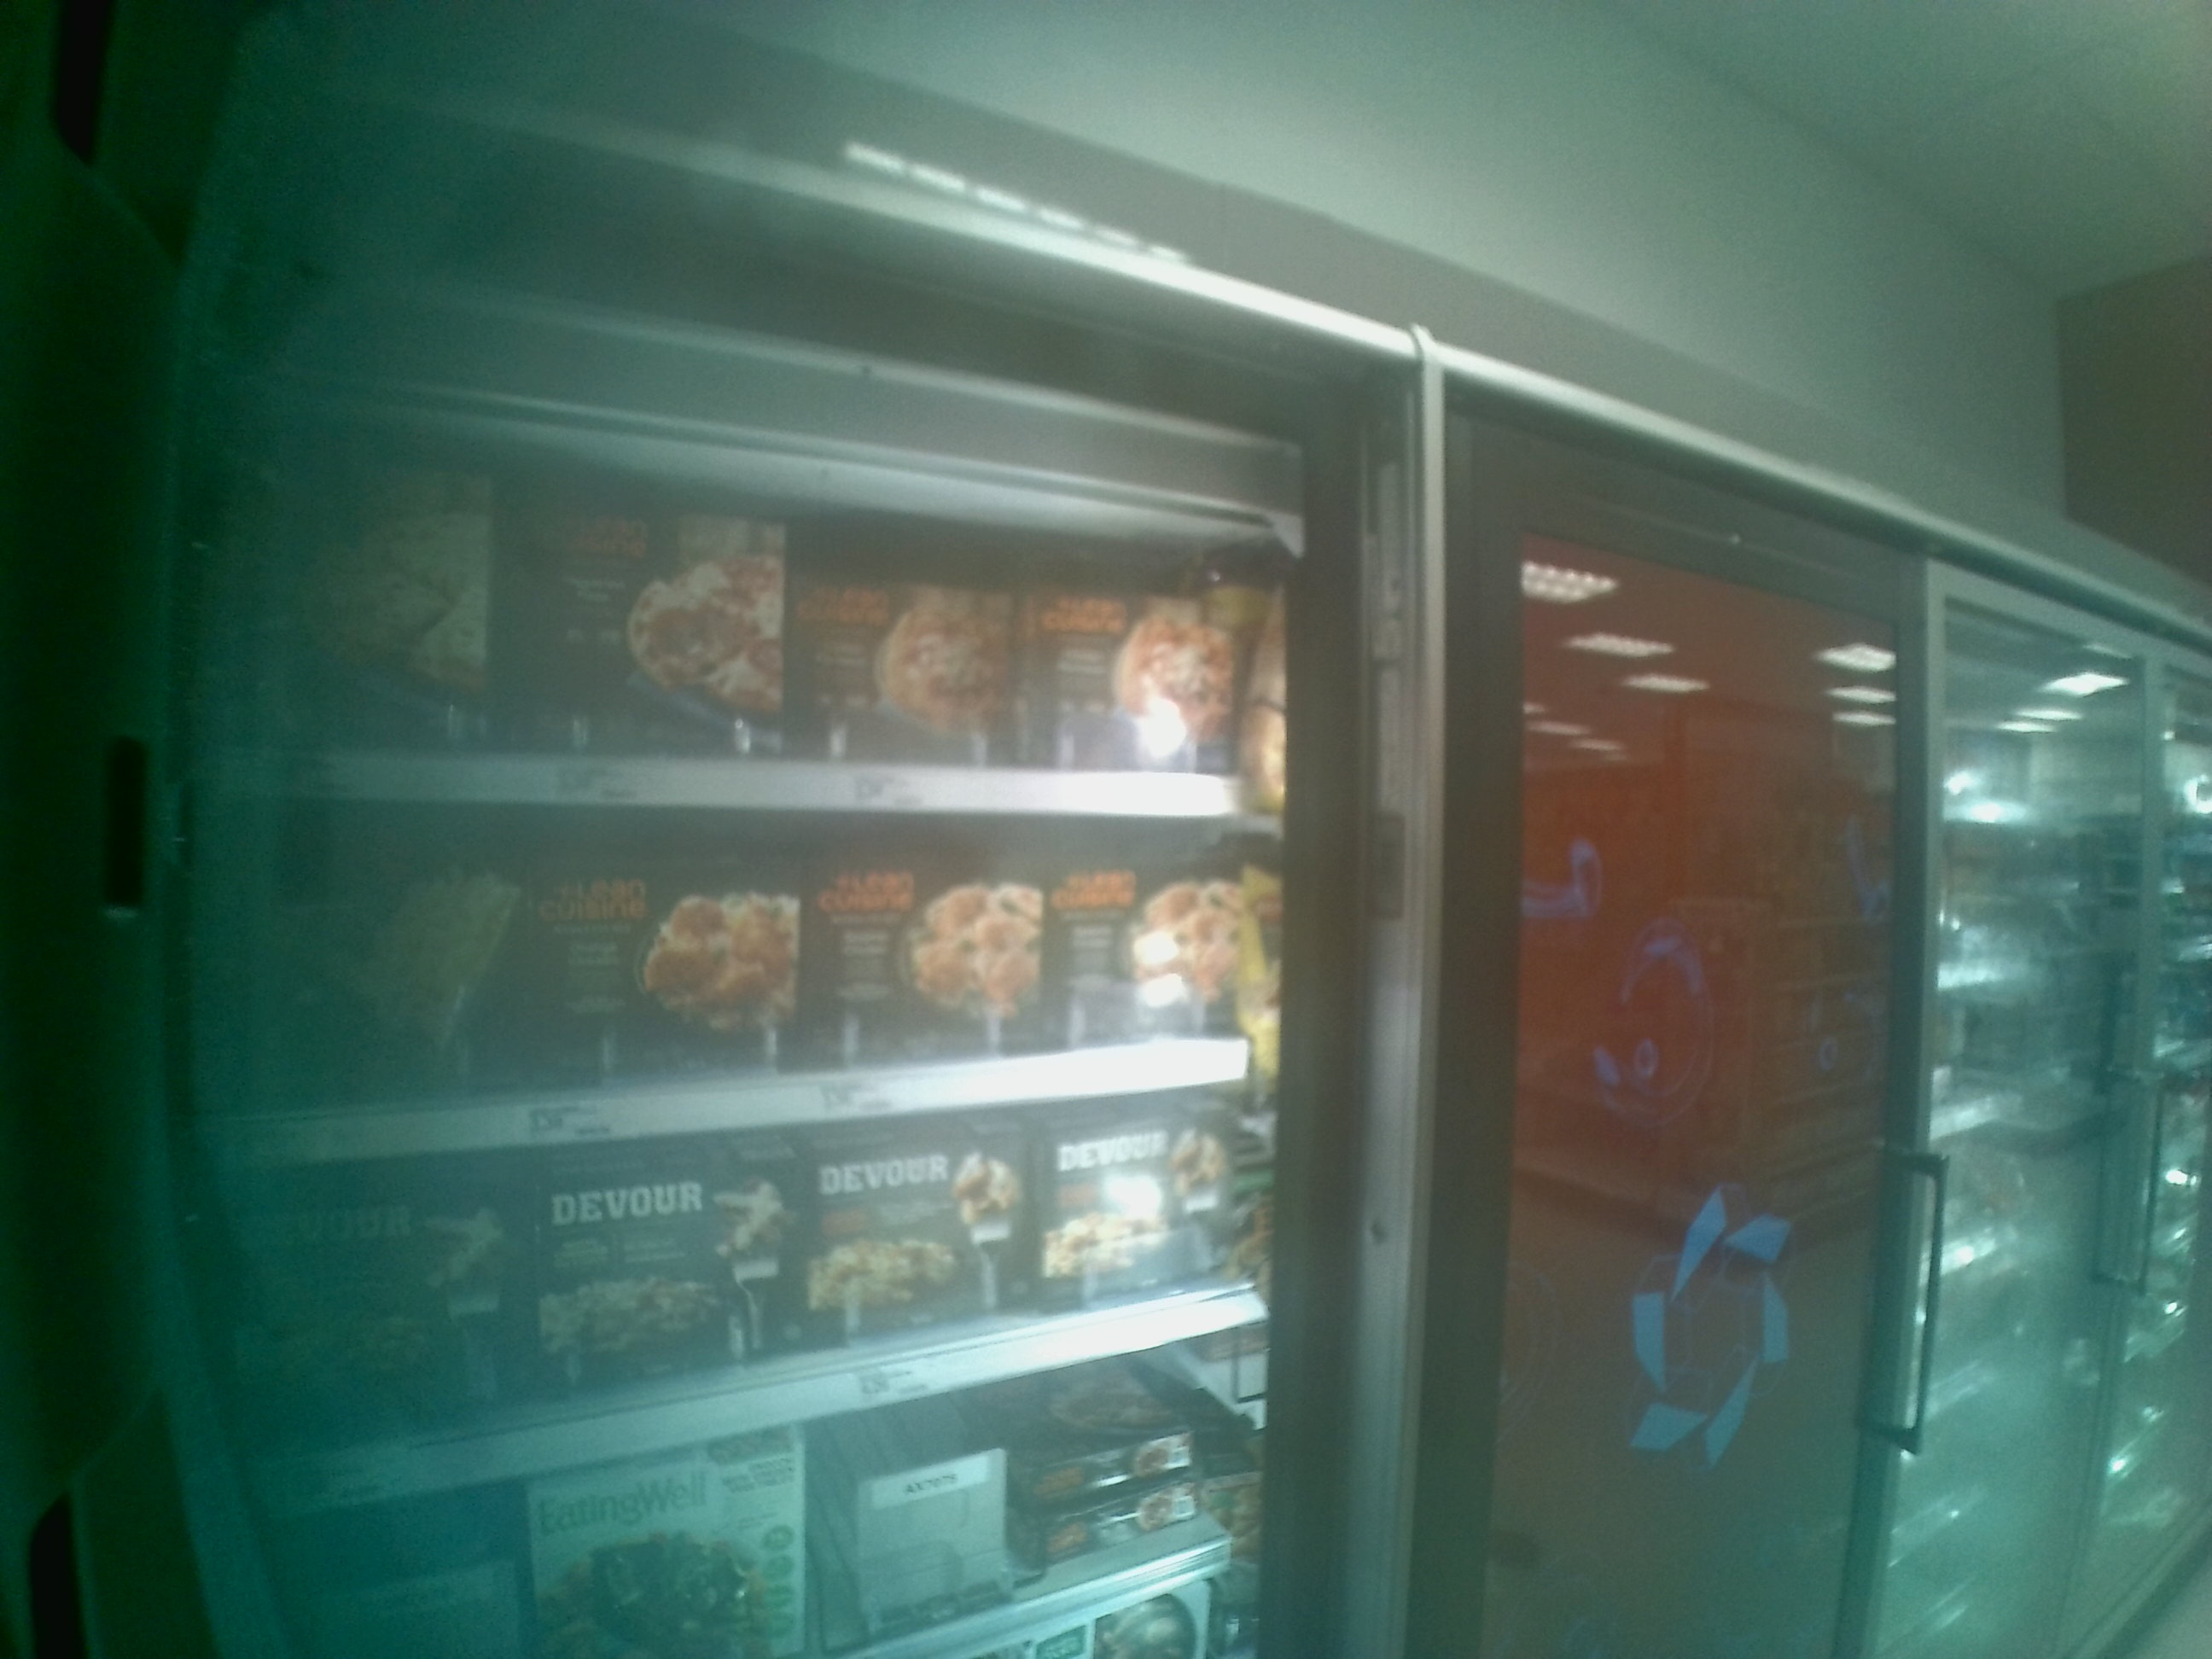shelf: (218, 396, 1355, 814), (212, 814, 1298, 1173)
